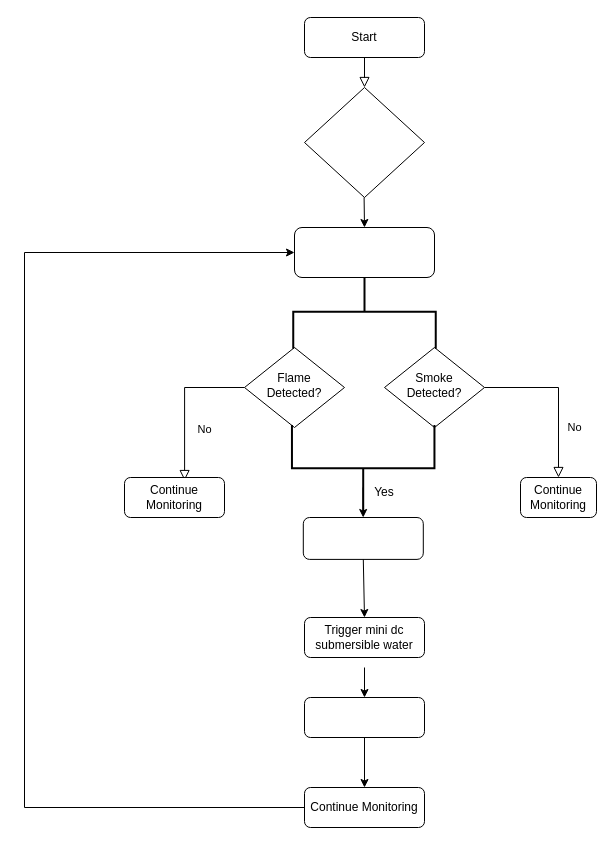
Image size: 614x845. Some labels were removed from this diagram. The box of each missing label's shape, as (x1, y1, x2, y2) in pixels:
Detect Fire or Smoke: (294, 226, 434, 278)
Initialize Sensors(Flame, Smoke): (304, 86, 424, 198)
Send signal to the relay: (302, 516, 423, 559)
Spraying water: (304, 696, 424, 738)
